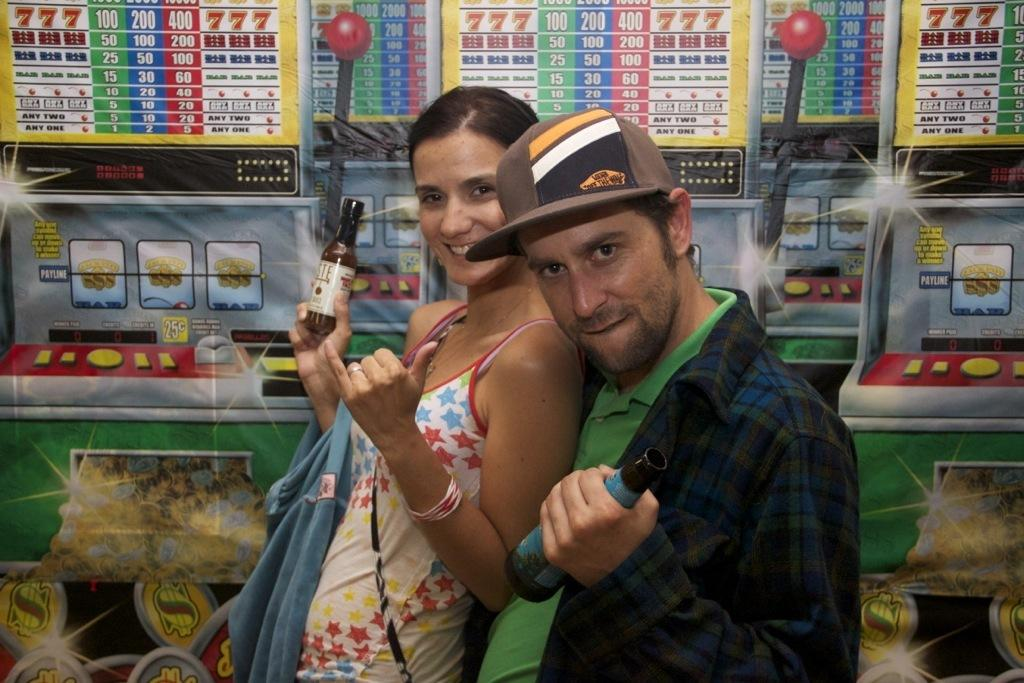Hat: (465, 106, 675, 260)
